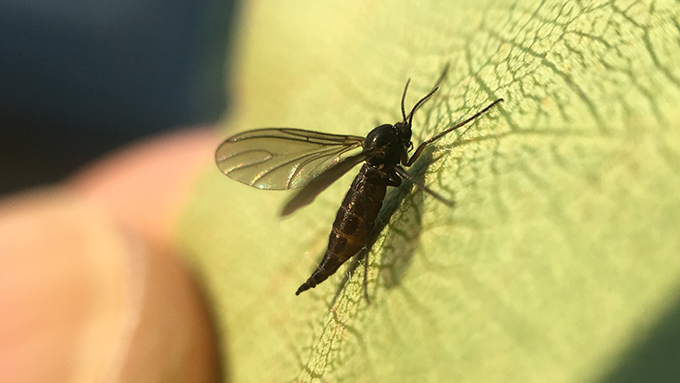Fruit fly: (204, 93, 443, 295)
